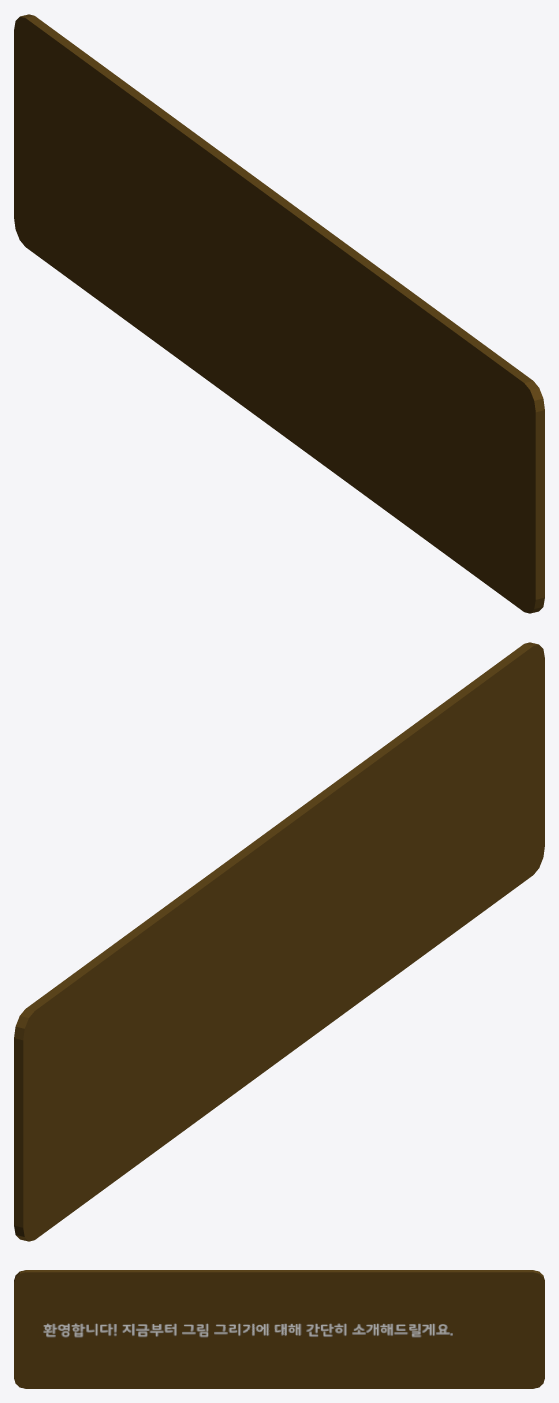
The model's file is TutorialBox.fbx.
3 renders of one model, top to bottom at view 1: azimuth 30°, elevation 25°; view 2: azimuth 150°, elevation 25°; view 3: azimuth 270°, elevation 25°, orthographic. The views are drawn at different scales.
Parts seen in each view (by area): view 1: Cube.001; view 2: Cube.001; view 3: Cube.001.
Part boxes in pixels (x1,y1,x2,y2): Cube.001: (14, 14, 544, 613); Cube.001: (14, 642, 544, 1241); Cube.001: (14, 1270, 544, 1388).
Size of the model in its own units: 5.08 by 121 by 499.
